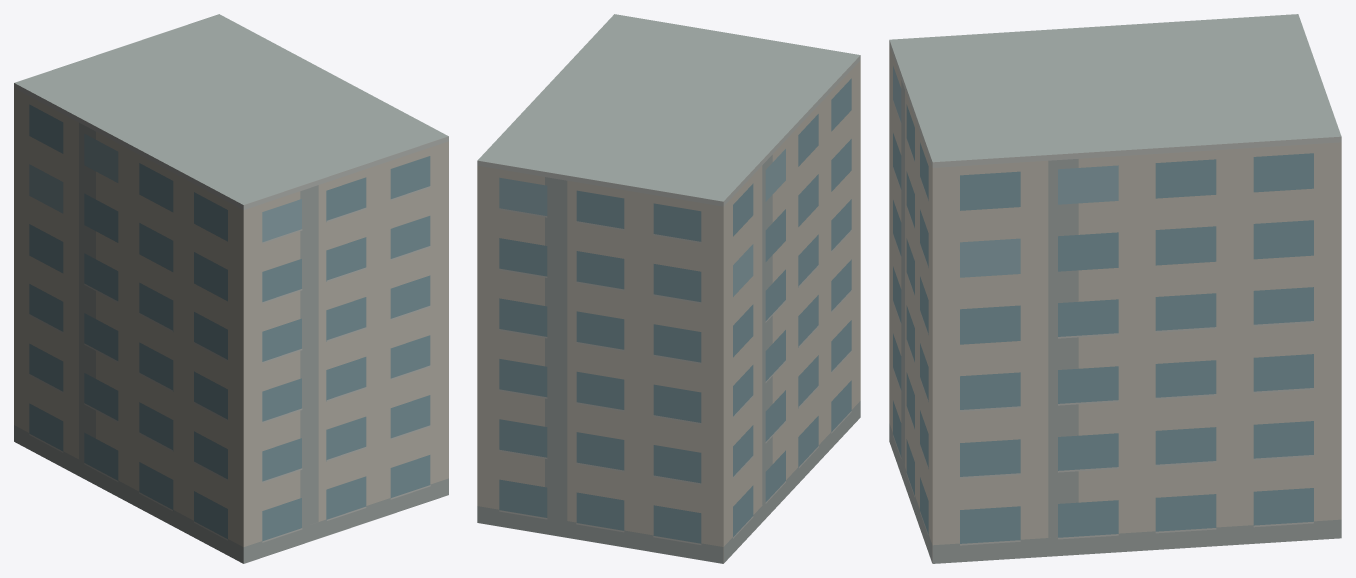
The model's file is survey-upis-32524963.glb.
3 views of the same model, side by side, from view 1: azimuth 30°, elevation 25°; view 2: azimuth 150°, elevation 25°; view 3: azimuth 270°, elevation 25° (orthographic). The views are drawn at different scales.
Visible parts, largest first — view 1: survey-upis-32524963.tmp; view 2: survey-upis-32524963.tmp; view 3: survey-upis-32524963.tmp.
Part boxes in pixels (x1=…): survey-upis-32524963.tmp: x1=14, y1=14, x2=448, y2=563; survey-upis-32524963.tmp: x1=477, y1=14, x2=860, y2=563; survey-upis-32524963.tmp: x1=889, y1=14, x2=1341, y2=563.
Bounding box in the file's own units: 13.66 × 17.25 × 17.61.
